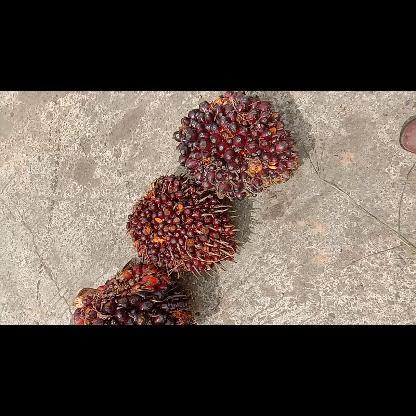Kurang masak: (172, 91, 298, 199), (125, 176, 241, 272)
TBS masak: (70, 264, 194, 324)
